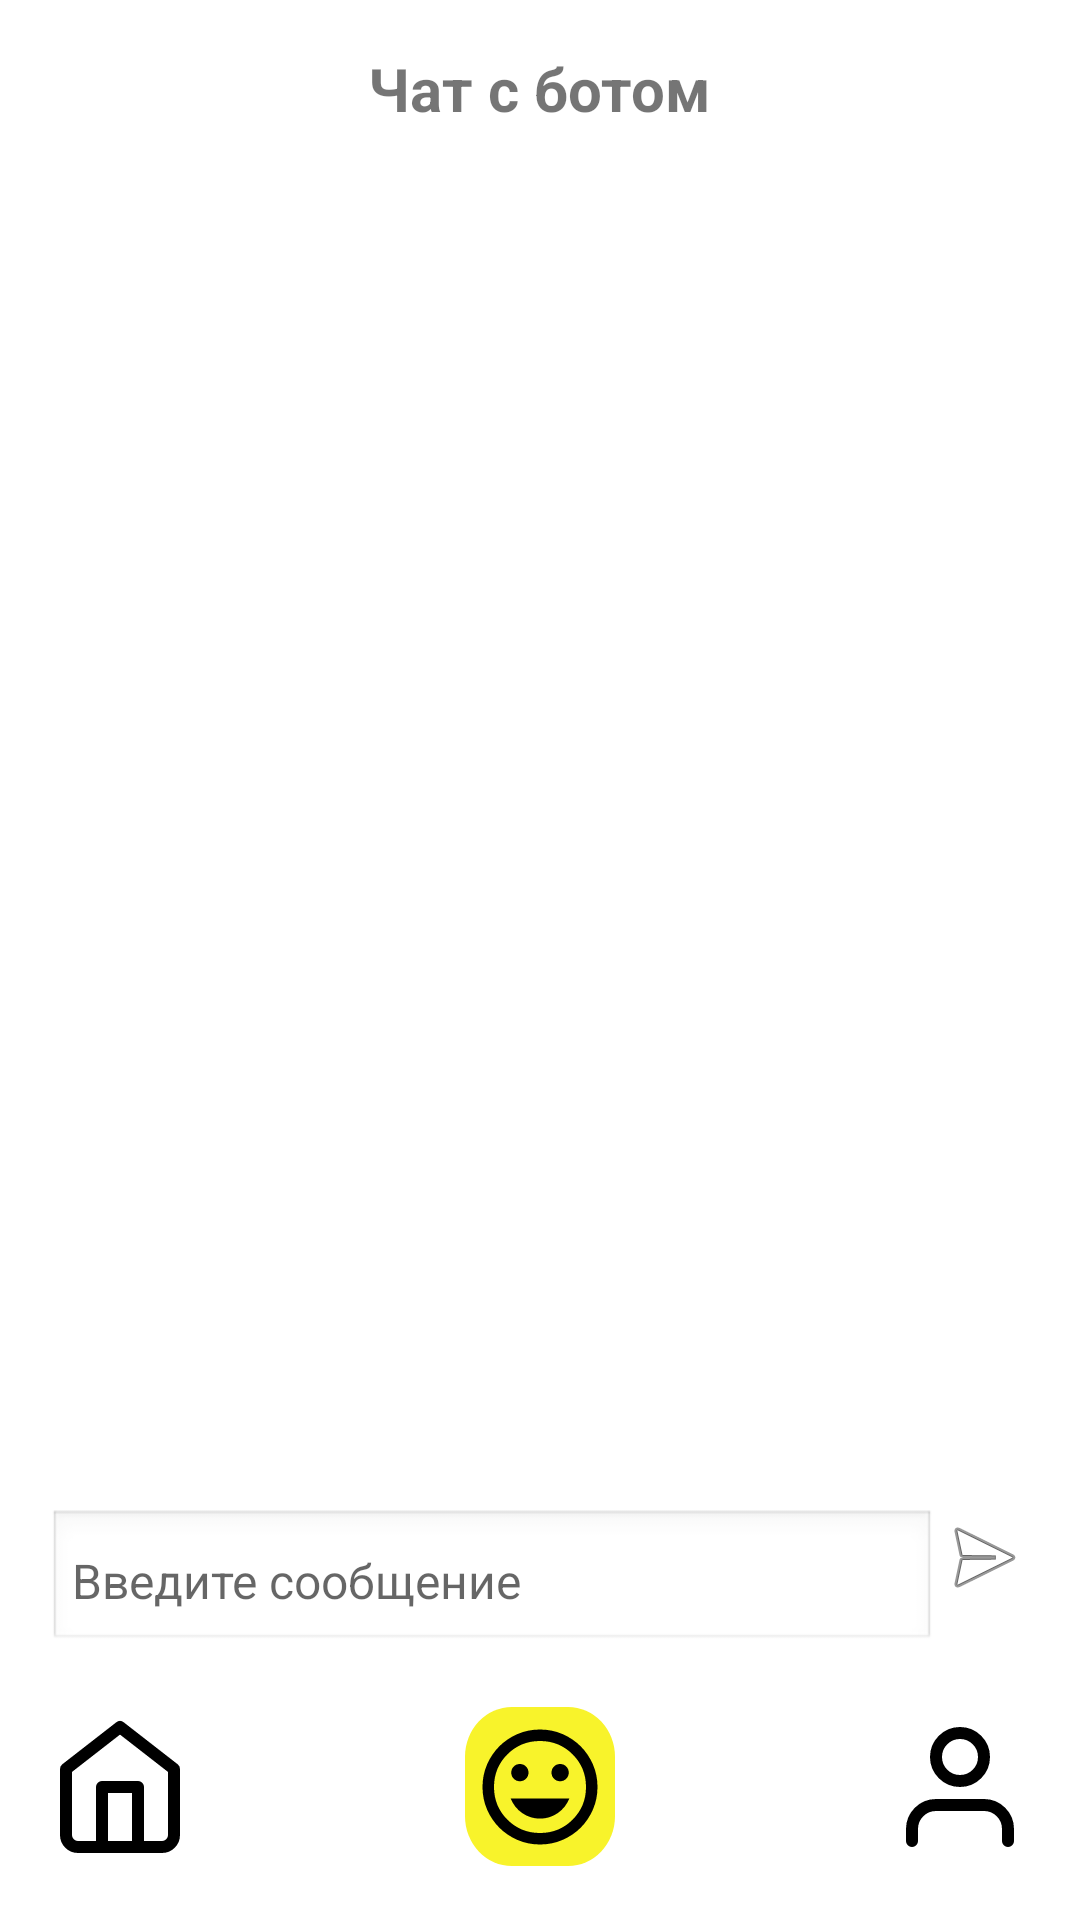

Point at icon controls on the screen. Image size 1080*1920, points as (x=x, y=y).
Home: (x=120, y=1787)
User: (x=960, y=1787)
Отправить сообщение: (x=985, y=1557)
